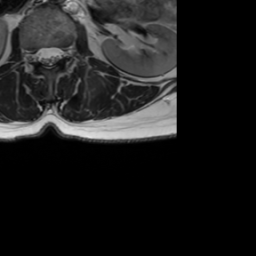CCS_normal: (46, 37, 54, 74)
LFS_normal: (63, 36, 71, 65)
LLS_normal: (54, 37, 63, 69)
RFS_normal: (27, 38, 36, 71)
RLS_normal: (36, 38, 46, 69)
